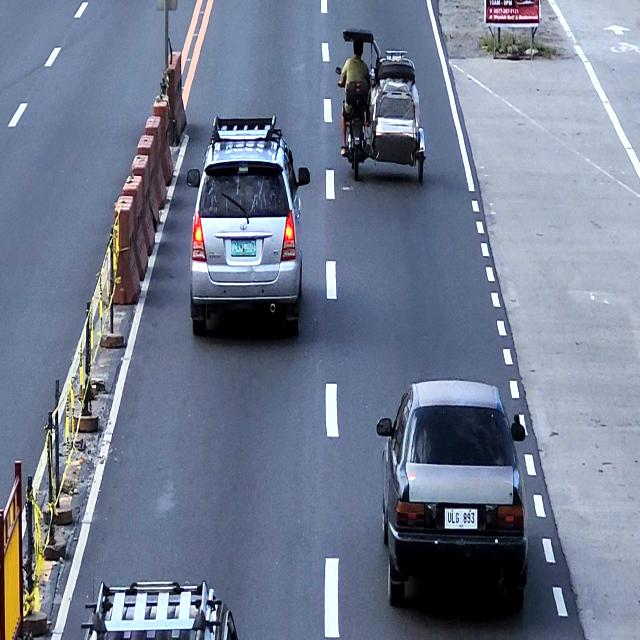Car: (376, 378, 529, 609), (186, 114, 310, 335), (82, 576, 240, 640)
License-Plate: (444, 506, 478, 530), (230, 237, 257, 258)
Tricycle: (336, 28, 426, 184)
